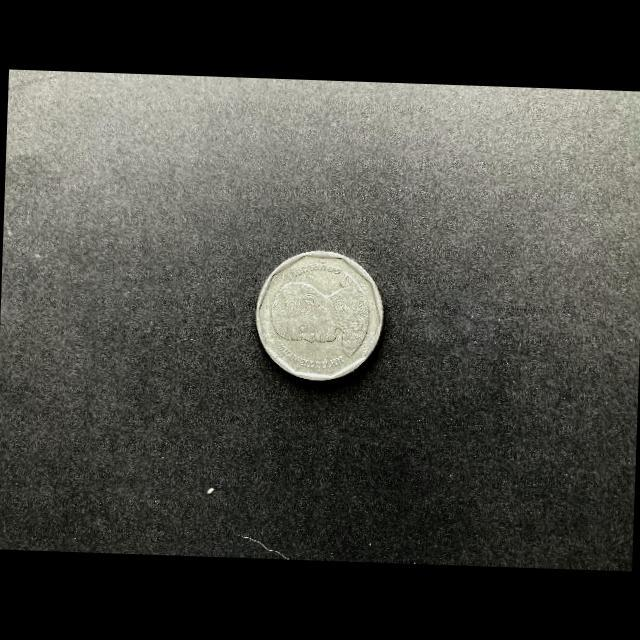5 Bath: (254, 249, 388, 384)
